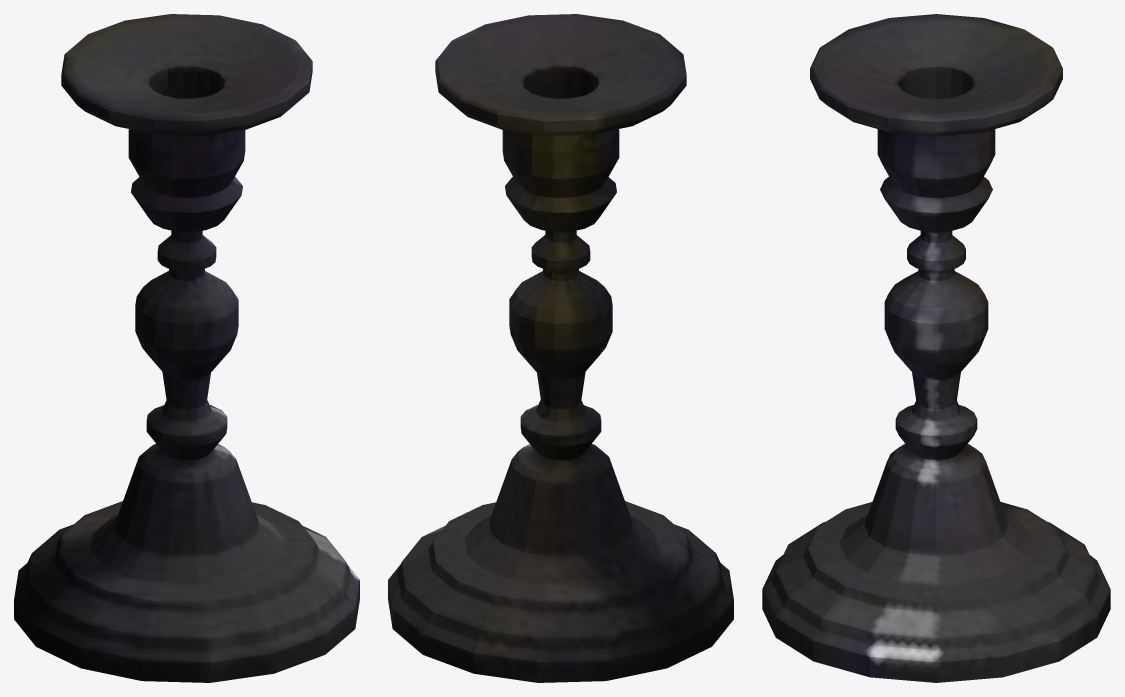
Rendered from candelstick.glb.
3 views of the same model, side by side, from view 1: azimuth 30°, elevation 25°; view 2: azimuth 150°, elevation 25°; view 3: azimuth 270°, elevation 25° (orthographic).
Visible parts, largest first — view 1: candelstick; view 2: candelstick; view 3: candelstick.
Part boxes in pixels (x1,y1,x2,y2): candelstick: (14, 14, 359, 682); candelstick: (388, 14, 733, 682); candelstick: (762, 14, 1110, 682).
Bounding box in the file's own units: 1.54 × 2.65 × 1.54.
1 material, 1 textured.
